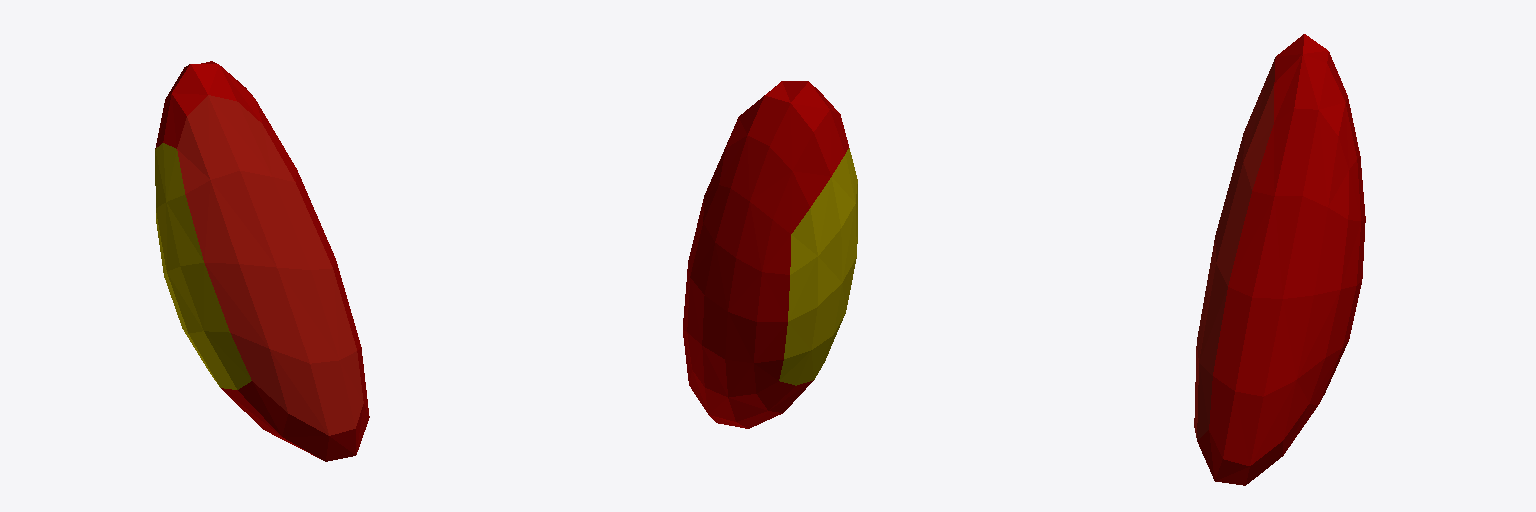
Rendered from oblong.obj.
The picture shows the model from 3 angles: view 1: azimuth 30°, elevation 25°; view 2: azimuth 150°, elevation 25°; view 3: azimuth 270°, elevation 25°; orthographic projection.
Parts seen in each view (by area): view 1: Cube; view 2: Cube; view 3: Cube.
Boxes of the visible parts, x1,y1,x2,y2 form: Cube: [155, 61, 369, 461]; Cube: [683, 81, 857, 428]; Cube: [1194, 34, 1365, 485].
Size of the model in its own units: 1.51 by 3.2 by 1.27.